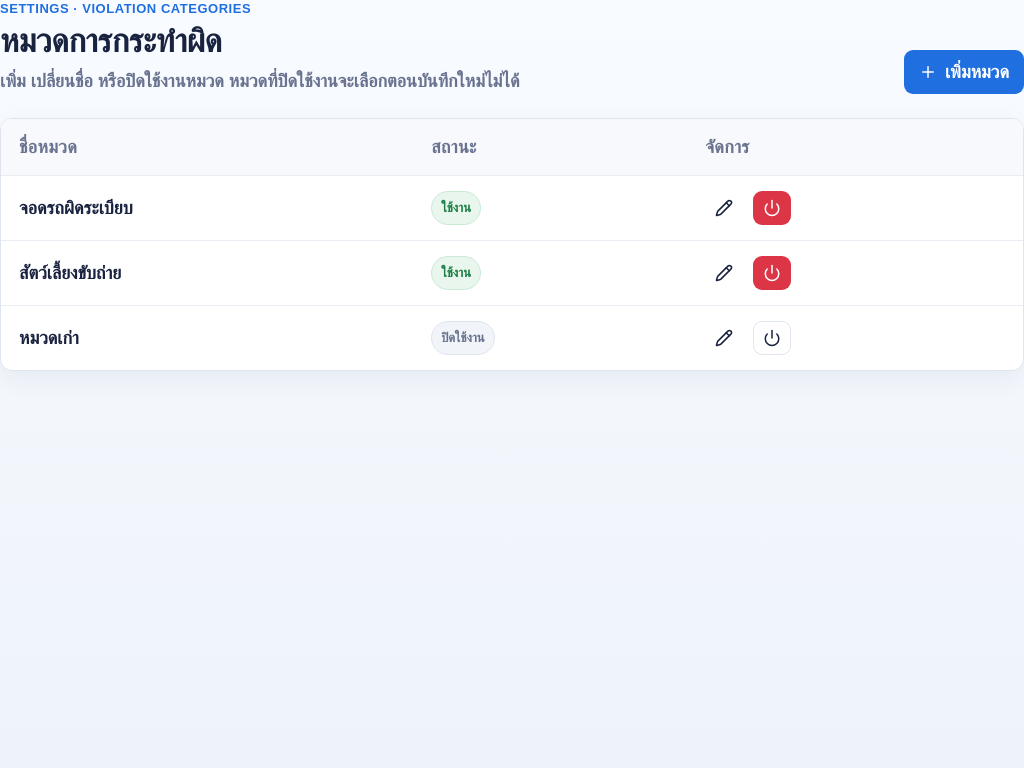
Scenario: ViolationCategoriesPage › clears a failed deactivation error when the dialog is cancelled
Expected: the text "จอดรถผิดระเบียบ" is shown, [1,175,413,240]
Step 1. Click the button named "ปิดใช้งาน จอดรถผิดระเบียบ" → (772, 208), box [753,191,791,225]
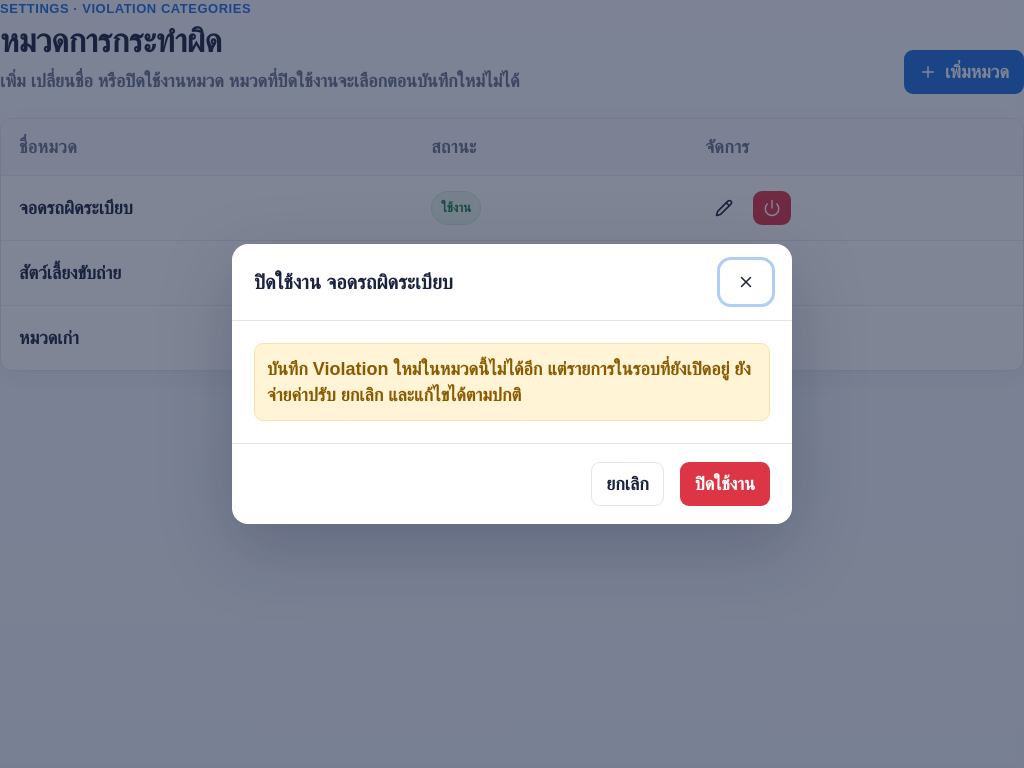
Step 2. Click the button "ปิดใช้งาน" → (725, 484), box [680,462,770,506]
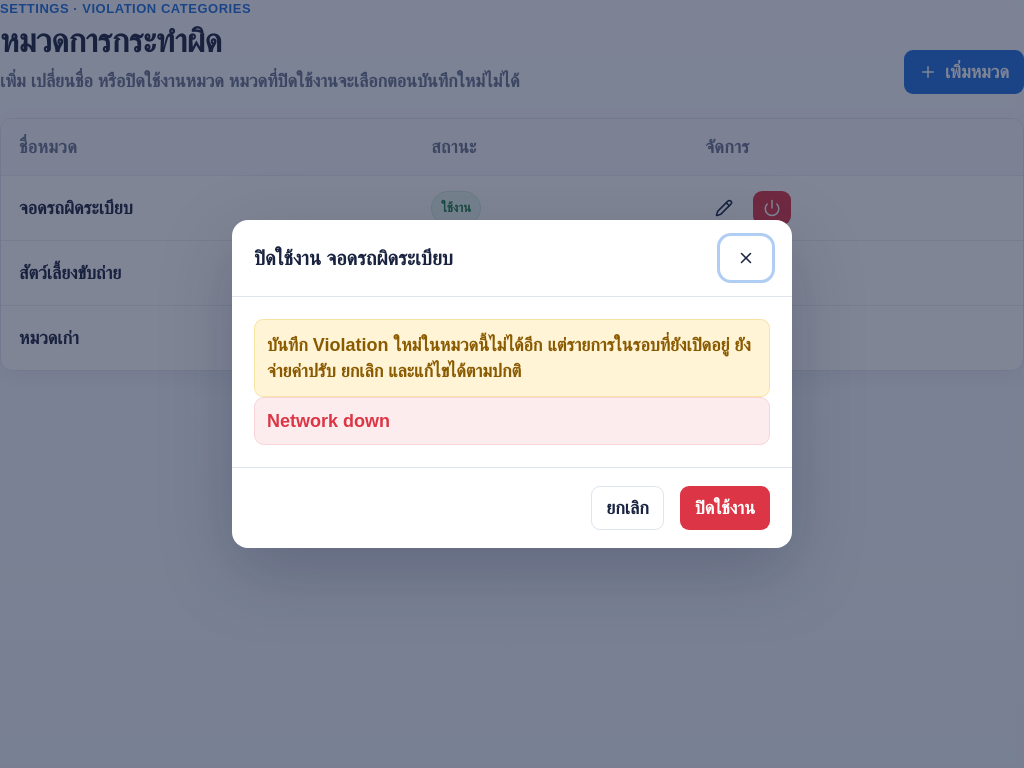
Expected: the text "Network down" is shown, [254,397,770,445]
Step 3. Click the button "ยกเลิก" → (628, 508), box [591,486,664,530]
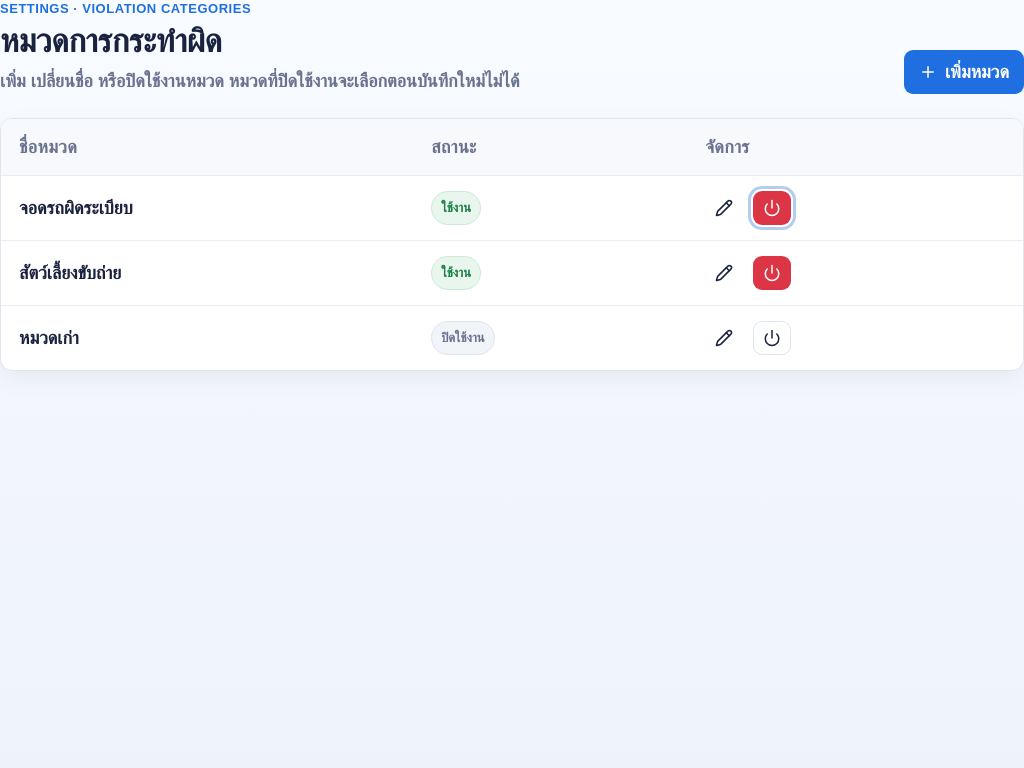
Expected: the dialog is gone
Expected: the text "Network down" is gone
